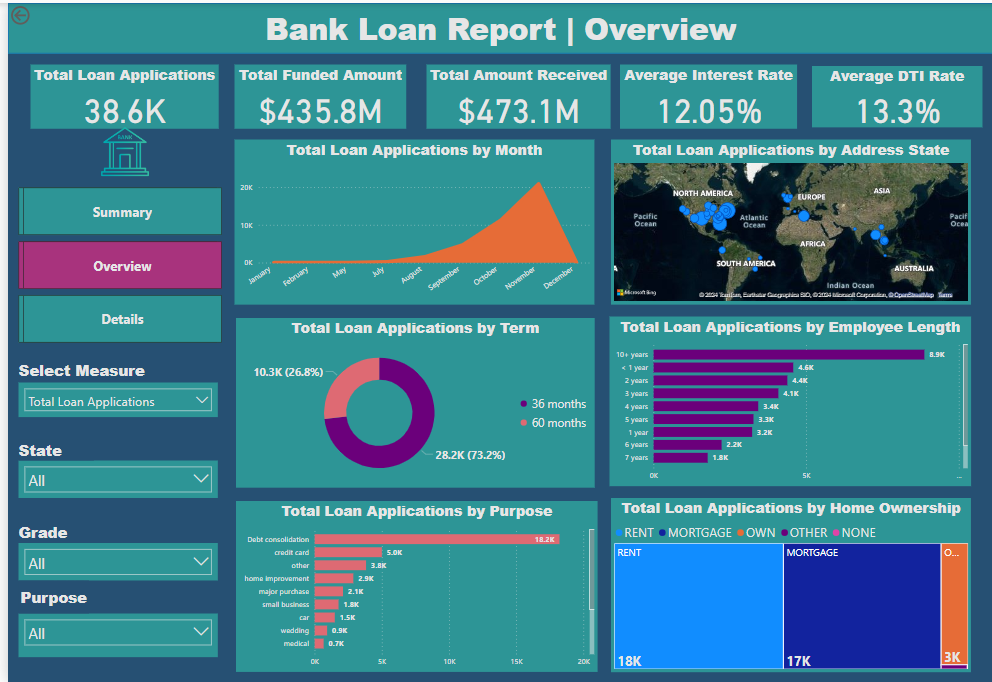

This screenshot's page, from the dashboard's own definition file:
{"tool":"powerbi","page":{"name":"Overview","canvas":[1595,1100],"ordinal":1},"visuals":[{"type":"shape","title":"Bank Loan Report | Summary","box":[0,0,1596,81.7],"z":0},{"type":"card","title":"Total Loan Applications","fields":{"Values":["financial_loan.total app"]},"box":[35.3,99.3,304.6,103.8],"z":1000},{"type":"card","title":"Total Funded Amount","fields":{"Values":["financial_loan.total fund"]},"box":[366.4,99.3,278.1,103.8],"z":2000},{"type":"card","title":"Total Amount Received","fields":{"Values":["Sum(financial_loan.total_payment)"]},"box":[677.7,99.3,298,103.8],"z":3000},{"type":"card","title":"Average DTI Rate","fields":{"Values":["financial_loan.Average DTI Rate"]},"box":[1302.4,101.5,275.9,99.3],"z":4000},{"type":"card","title":"Average Interest Rate","fields":{"Values":["financial_loan.avg r"]},"box":[991.2,99.3,287,103.8],"z":5000},{"type":"actionButton","box":[0,0,100,40],"z":6000},{"type":"slicer","title":"State","fields":{"Values":["financial_loan.address_state"]},"box":[17,740.6,323,60.7],"z":7000},{"type":"shape","box":[17,573.1,216.1,41.3],"z":8000},{"type":"slicer","title":"State","fields":{"Values":["financial_loan.grade"]},"box":[17,874.2,323,60.7],"z":9000},{"type":"slicer","title":"State","fields":{"Values":["financial_loan.purpose"]},"box":[17,988.3,323,70.4],"z":10000},{"type":"shape","box":[17,840.2,104.4,34],"z":11000},{"type":"shape","box":[17,934.9,114.1,53.4],"z":12000},{"type":"slicer","fields":{"Values":["Select Measure 2.Select Measure"]},"box":[17,614.3,323,55.8],"z":12001},{"type":"shape","box":[17,706.6,121.4,34],"z":12002},{"type":"areaChart","fields":{"Category":["financial_loan.issue_date.Variation.Date Hierarchy.Month"],"Y":["financial_loan.Total Loan Applications"]},"box":[366.7,221,582.8,267.1],"z":12003},{"type":"donutChart","fields":{"Category":["financial_loan.term"],"Y":["financial_loan.Total Loan Applications"]},"box":[369.1,509.9,580.4,274.4],"z":12004},{"type":"barChart","fields":{"Category":["financial_loan.emp_length"],"Y":["financial_loan.Total Loan Applications"]},"box":[973.7,507.5,585.2,274.4],"z":12005},{"type":"barChart","fields":{"Y":["financial_loan.Total Loan Applications"],"Category":["financial_loan.purpose"]},"box":[369.1,806.2,585.2,276.8],"z":12007},{"type":"map","fields":{"Category":["financial_loan.address_state"],"Size":["financial_loan.Total Loan Applications"]},"box":[976.2,221,582.8,267.1],"z":12008},{"type":"treemap","fields":{"Group":["financial_loan.home_ownership"],"Values":["financial_loan.Total Loan Applications"]},"box":[976.2,801.3,582.8,281.7],"z":12009},{"type":"pageNavigator","box":[17,298.7,323,252.5],"z":12011},{"type":"pageNavigator","box":[24.3,298.7,323,252.5],"z":12012},{"type":"image","box":[111.7,182.1,155.4,116.6],"z":12013}]}

Visuals, with their boxes in screenshot pixels (x1, y1, x2, y2), scaled from the page's 1595x1100 canvas onto the 992x682 screenshot:
"Bank Loan Report | Summary" shape: 0 0 991 51
"Total Loan Applications" card: 22 62 211 126
"Total Funded Amount" card: 228 62 401 126
"Total Amount Received" card: 421 62 607 126
"Average DTI Rate" card: 810 63 982 124
"Average Interest Rate" card: 616 62 795 126
actionButton: 0 0 62 25
"State" slicer: 11 459 211 497
shape: 11 355 145 381
"State" slicer: 11 542 211 580
"State" slicer: 11 613 211 656
shape: 11 521 76 542
shape: 11 580 82 613
slicer - Select Measure 2.Select Measure: 11 381 211 415
shape: 11 438 86 459
areaChart - financial_loan.issue_date.Variation.Date Hierarchy.Month x financial_loan.Total Loan Applications: 228 137 591 303
donutChart - financial_loan.term x financial_loan.Total Loan Applications: 230 316 591 486
barChart - financial_loan.emp_length x financial_loan.Total Loan Applications: 606 315 970 485
barChart - financial_loan.Total Loan Applications x financial_loan.purpose: 230 500 594 671
map - financial_loan.address_state x financial_loan.Total Loan Applications: 607 137 970 303
treemap - financial_loan.home_ownership x financial_loan.Total Loan Applications: 607 497 970 671
pageNavigator: 11 185 211 342
pageNavigator: 15 185 216 342
image: 69 113 166 185
